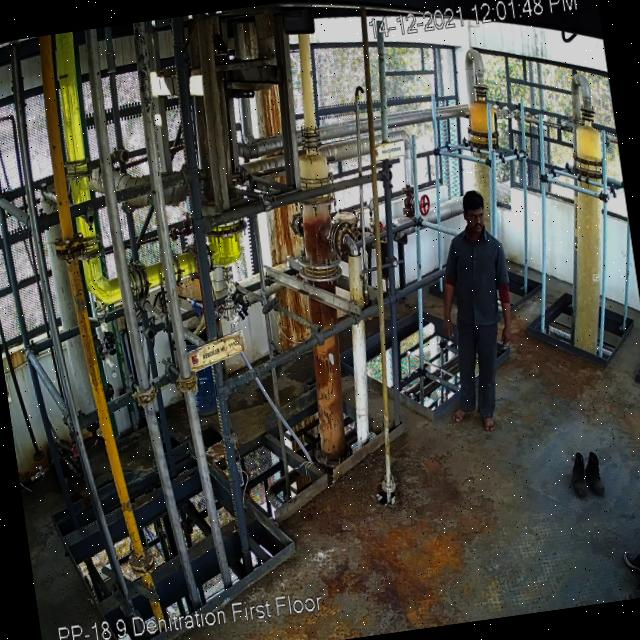boots: (566, 448, 595, 501), (584, 450, 608, 496)
no-boots: (448, 406, 475, 424), (478, 414, 498, 436)
